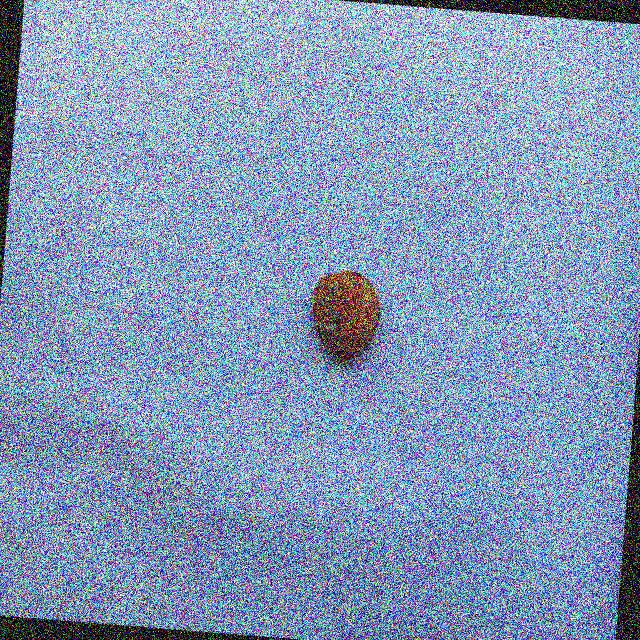grade3: (303, 264, 385, 368)
